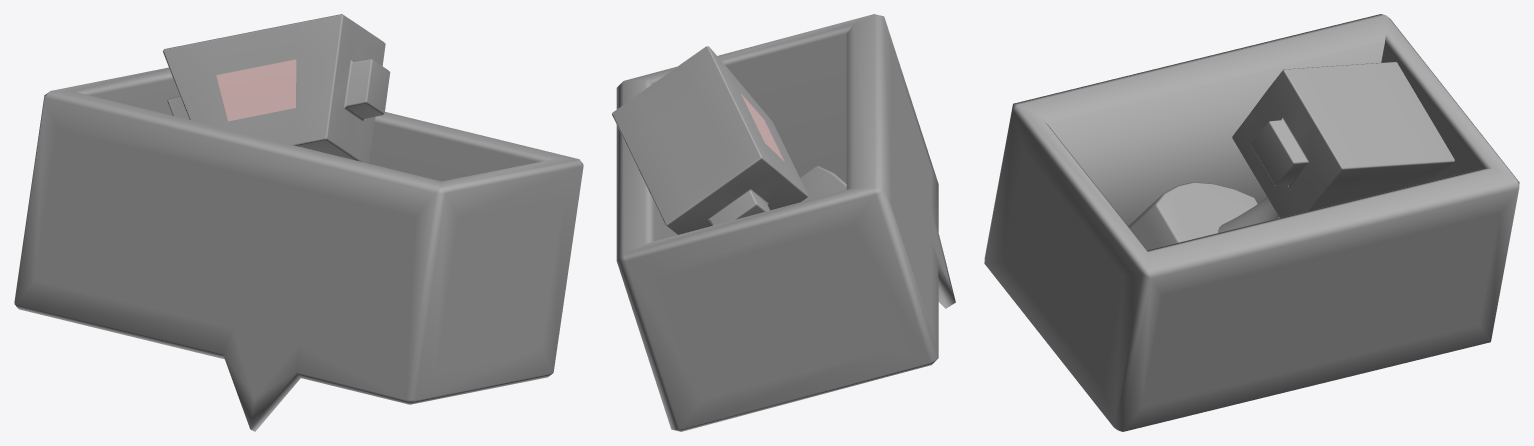
Rendered from Chess_10001.fbx.
3 renders of one model, left to right at view 1: azimuth 30°, elevation 25°; view 2: azimuth 150°, elevation 25°; view 3: azimuth 270°, elevation 25°, orthographic. The views are drawn at different scales.
Visible parts, largest first — view 1: Chess_31_1, Chess_31_2_1, Chess_31_2_2; view 2: Chess_31_1, Chess_31_2_1, Chess_31_2_2; view 3: Chess_31_1, Chess_31_2_1.
Part boxes in pixels (bbox=[...]): Chess_31_1: bbox=[14, 67, 583, 431]; Chess_31_2_1: bbox=[163, 14, 390, 163]; Chess_31_2_2: bbox=[216, 59, 296, 121]; Chess_31_1: bbox=[616, 14, 955, 431]; Chess_31_2_1: bbox=[612, 46, 846, 234]; Chess_31_2_2: bbox=[741, 94, 784, 161]; Chess_31_1: bbox=[984, 14, 1519, 431]; Chess_31_2_1: bbox=[1128, 62, 1454, 250].
Size of the model in its own units: 3.99 by 2.71 by 4.26.
